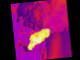Foc: (20, 20, 56, 51)
